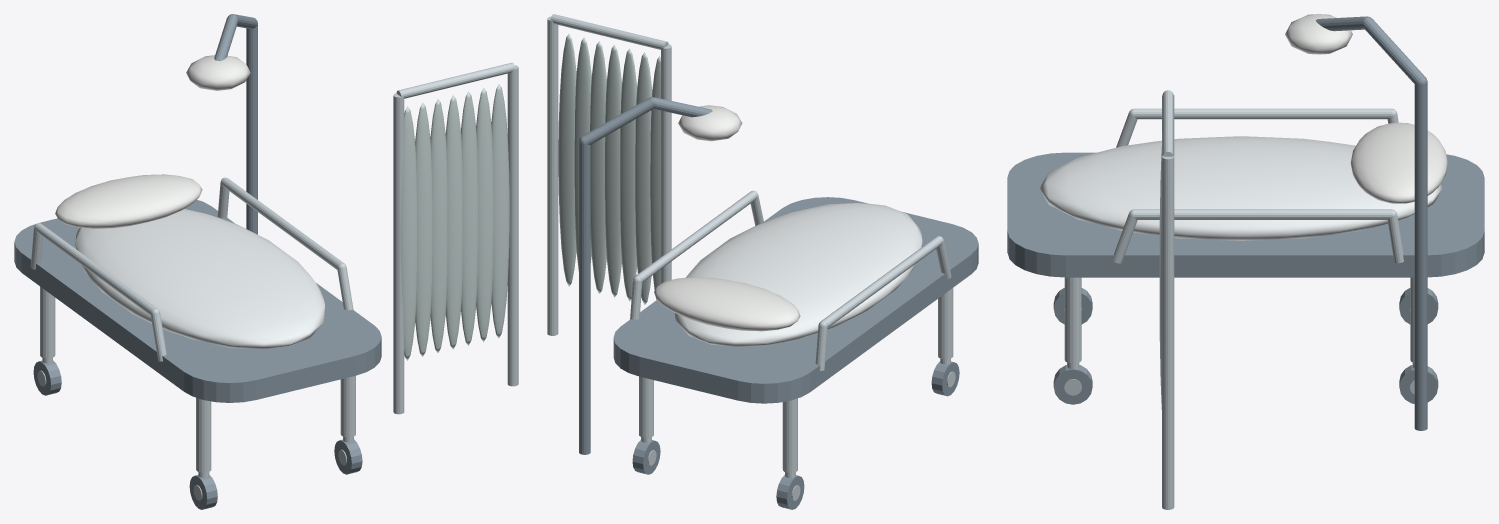
File: hospital_exam_bay.glb
3 renders of one model, left to right at view 1: azimuth 30°, elevation 25°; view 2: azimuth 150°, elevation 25°; view 3: azimuth 270°, elevation 25°, orthographic. The views are drawn at different scales.
Parts seen in each view (by area): view 1: decor_9bb7b5_fabric, decor_455665_metal, decor_d4dfe3_fabric, decor_9aadb8_metal, decor_d8dcd8_fabric, decor_d8dcd8_matte; view 2: decor_455665_metal, decor_9bb7b5_fabric, decor_d4dfe3_fabric, decor_9aadb8_metal, decor_d8dcd8_fabric, decor_d8dcd8_matte; view 3: decor_455665_metal, decor_d4dfe3_fabric, decor_9aadb8_metal, decor_d8dcd8_fabric, decor_d8dcd8_matte, decor_9bb7b5_fabric.
Boxes of the visible parts, bbox=[...] form: decor_9bb7b5_fabric: bbox=[400, 84, 509, 360]; decor_455665_metal: bbox=[14, 14, 381, 509]; decor_d4dfe3_fabric: bbox=[75, 209, 324, 349]; decor_9aadb8_metal: bbox=[30, 62, 518, 500]; decor_d8dcd8_fabric: bbox=[55, 174, 202, 228]; decor_d8dcd8_matte: bbox=[186, 55, 250, 90]; decor_455665_metal: bbox=[579, 97, 978, 509]; decor_9bb7b5_fabric: bbox=[558, 34, 660, 304]; decor_d4dfe3_fabric: bbox=[674, 203, 922, 346]; decor_9aadb8_metal: bbox=[547, 14, 955, 500]; decor_d8dcd8_fabric: bbox=[654, 277, 800, 331]; decor_d8dcd8_matte: bbox=[678, 105, 742, 141]; decor_455665_metal: bbox=[1007, 16, 1484, 430]; decor_d4dfe3_fabric: bbox=[1039, 136, 1442, 240]; decor_9aadb8_metal: bbox=[1064, 90, 1414, 509]; decor_d8dcd8_fabric: bbox=[1350, 122, 1447, 203]; decor_d8dcd8_matte: bbox=[1285, 14, 1352, 54]; decor_9bb7b5_fabric: bbox=[1159, 133, 1162, 409].
Size of the model in its own units: 2.01 by 1.79 by 1.96.
